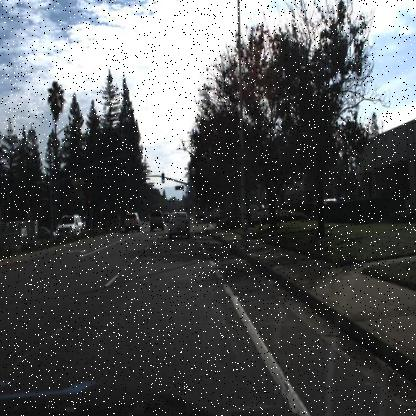car: (54, 212, 86, 239), (168, 202, 192, 238), (53, 213, 84, 240), (148, 209, 166, 237), (218, 204, 240, 223), (124, 209, 141, 232), (320, 194, 338, 208), (160, 210, 172, 224), (118, 216, 126, 228), (145, 214, 151, 224)
trafficLight-Green: (197, 190, 201, 203), (162, 171, 166, 182)
trafficLight-RedLeft: (86, 198, 92, 210), (139, 175, 144, 187)
